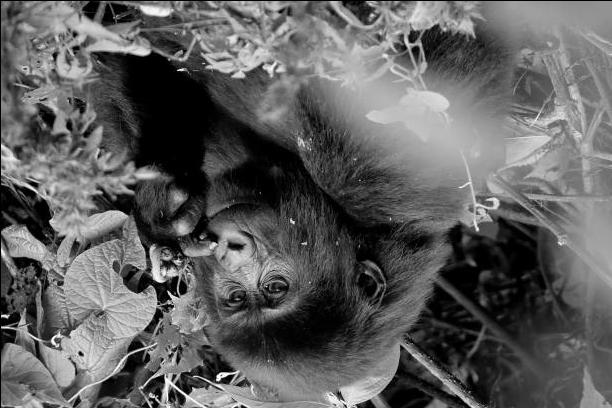goriile_montagne: (73, 3, 521, 408)
